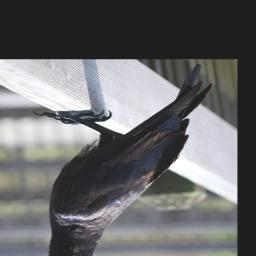Crow: (31, 64, 215, 256)
